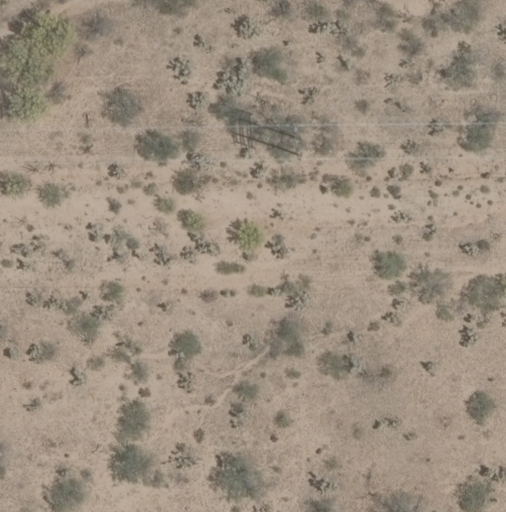DT: (288, 116, 309, 165)
